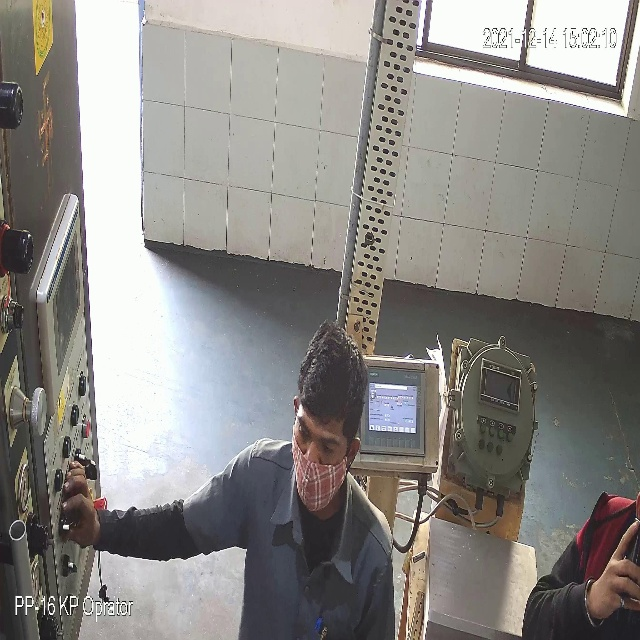Sin_gafas: (293, 419, 345, 461)
